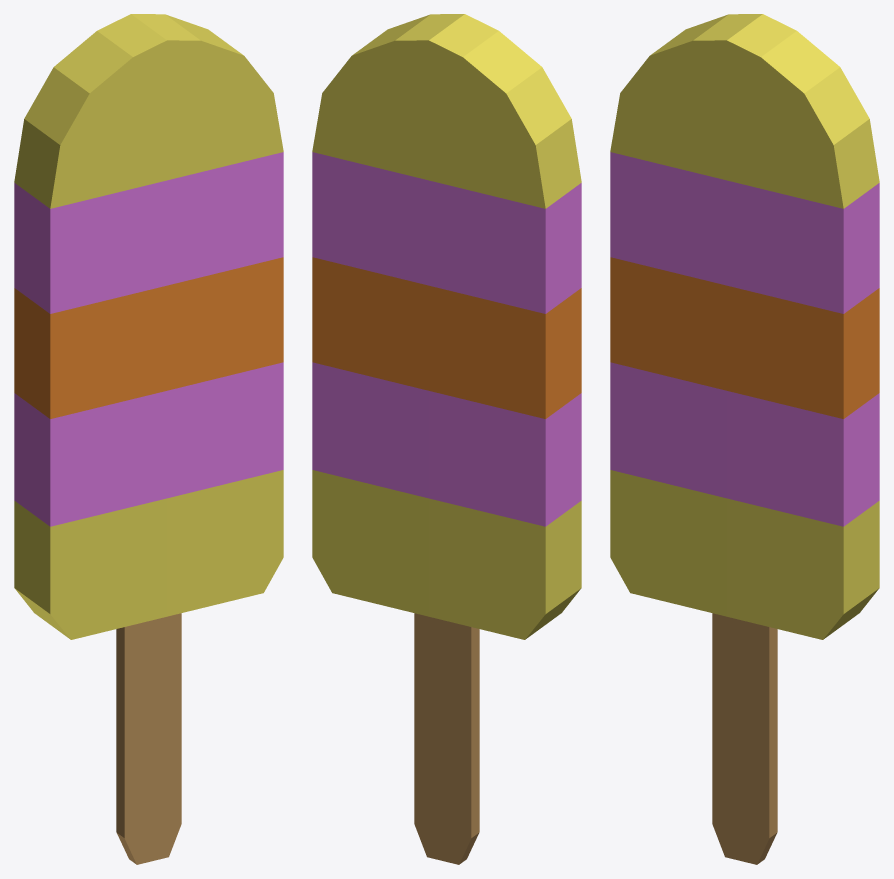
File: icecream3.fbx
3 views of the same model, side by side, from view 1: azimuth 30°, elevation 25°; view 2: azimuth 150°, elevation 25°; view 3: azimuth 330°, elevation 25° (orthographic).
Parts seen in each view (by area): view 1: Popsicle_Multiple; view 2: Popsicle_Multiple; view 3: Popsicle_Multiple.
Part boxes in pixels (x1,y1,x2,y2): Popsicle_Multiple: [14, 14, 283, 864]; Popsicle_Multiple: [312, 14, 581, 864]; Popsicle_Multiple: [610, 14, 879, 864].
Bounding box in the file's own units: 29.11 × 99 × 7.98.
